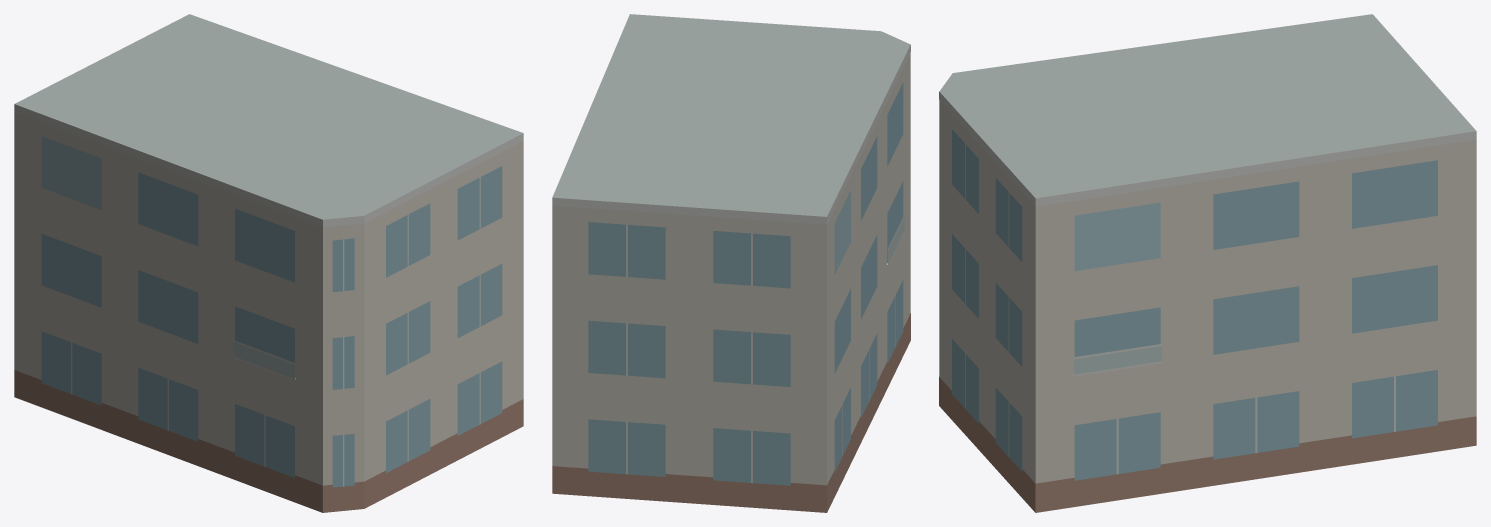
The model's file is survey-upis-32562283.glb.
3 views of the same model, side by side, from view 1: azimuth 30°, elevation 25°; view 2: azimuth 150°, elevation 25°; view 3: azimuth 270°, elevation 25° (orthographic). The views are drawn at different scales.
Visible parts, largest first — view 1: survey-upis-32562283.tmp; view 2: survey-upis-32562283.tmp; view 3: survey-upis-32562283.tmp.
Part boxes in pixels (left/top/right/bottom): survey-upis-32562283.tmp: left=14, top=14, right=523, bottom=512; survey-upis-32562283.tmp: left=552, top=14, right=910, bottom=512; survey-upis-32562283.tmp: left=939, top=14, right=1476, bottom=512.
Bounding box in the file's own units: 11.52 × 9.15 × 14.18.
